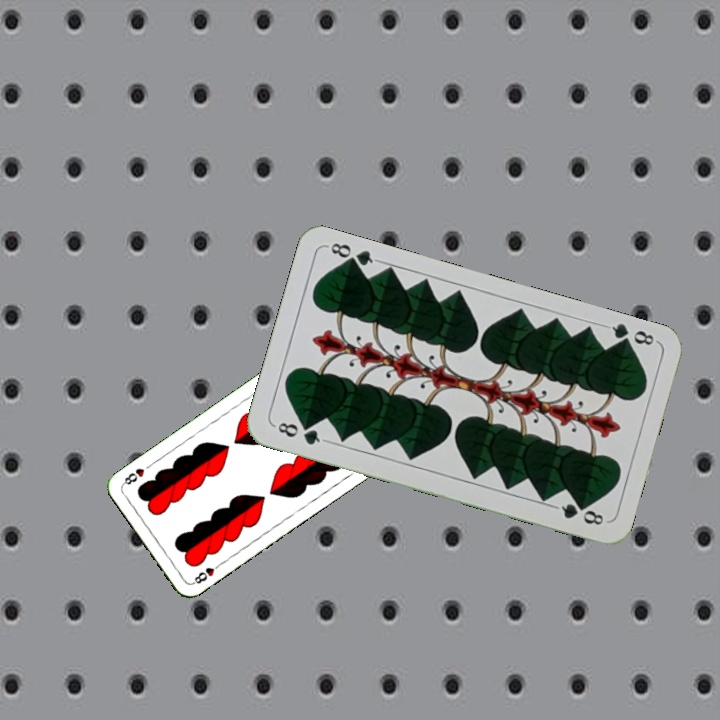G8: (601, 319, 659, 351), (270, 418, 328, 448)
H8: (188, 559, 224, 587)
